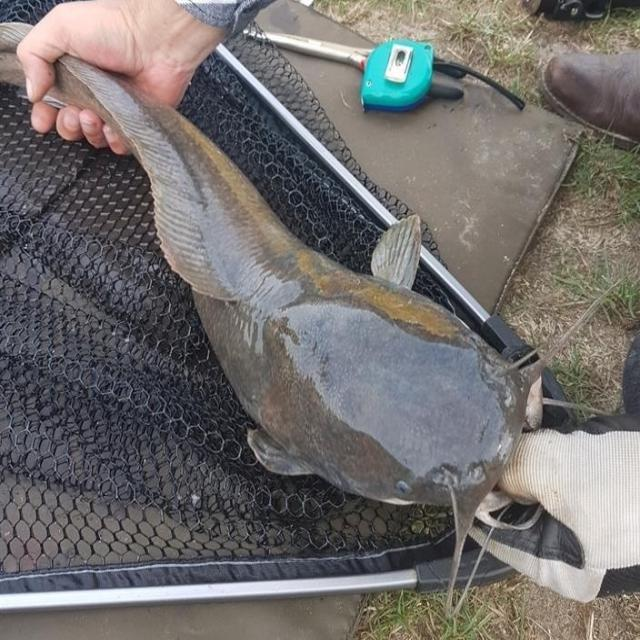Catfish: (0, 18, 547, 572)
